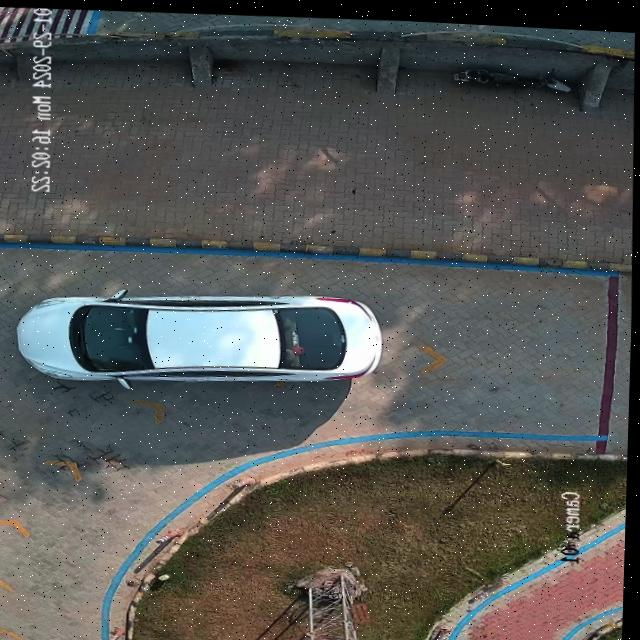car: (18, 292, 384, 381)
